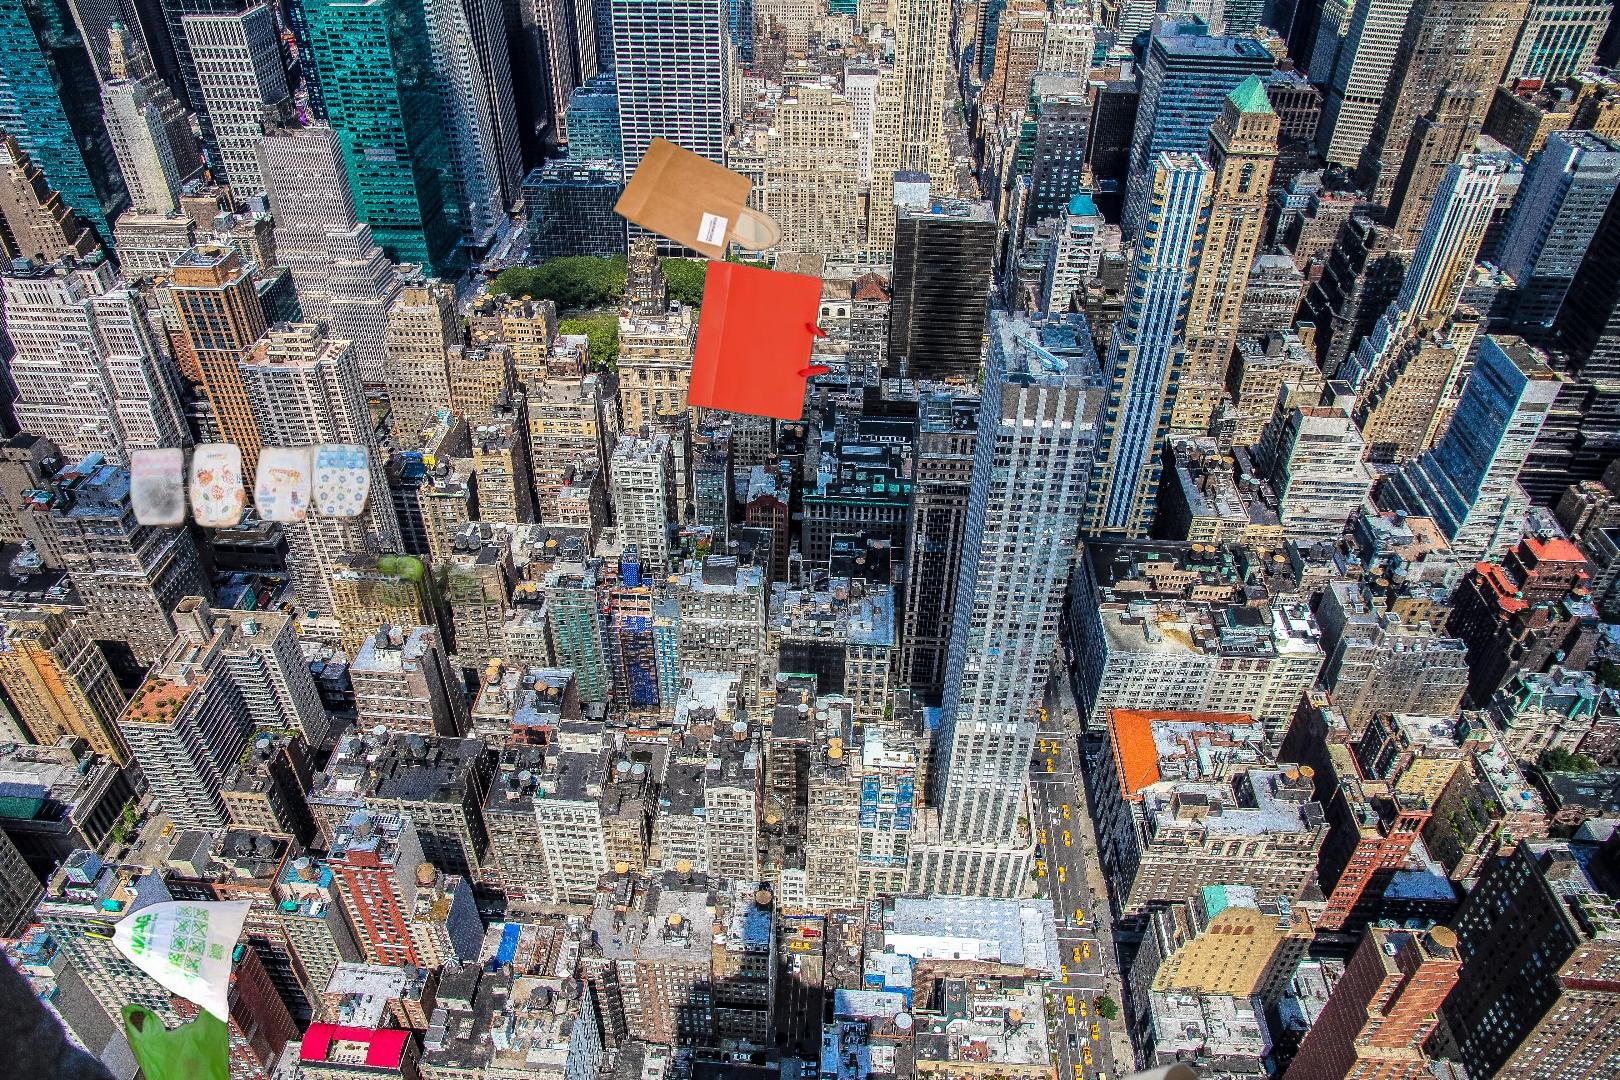biological: (343, 439, 642, 607)
paper-bag: (611, 133, 833, 425)
plastic-bag: (80, 896, 257, 1080)
trash: (116, 436, 392, 619)
trashbox-cardboard: (948, 1052, 1586, 1080)
